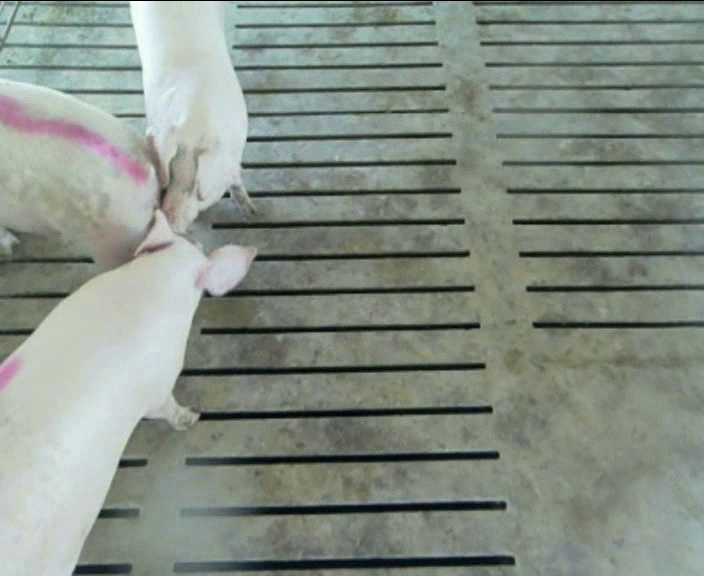pig: (0, 210, 253, 573), (131, 2, 254, 233)
